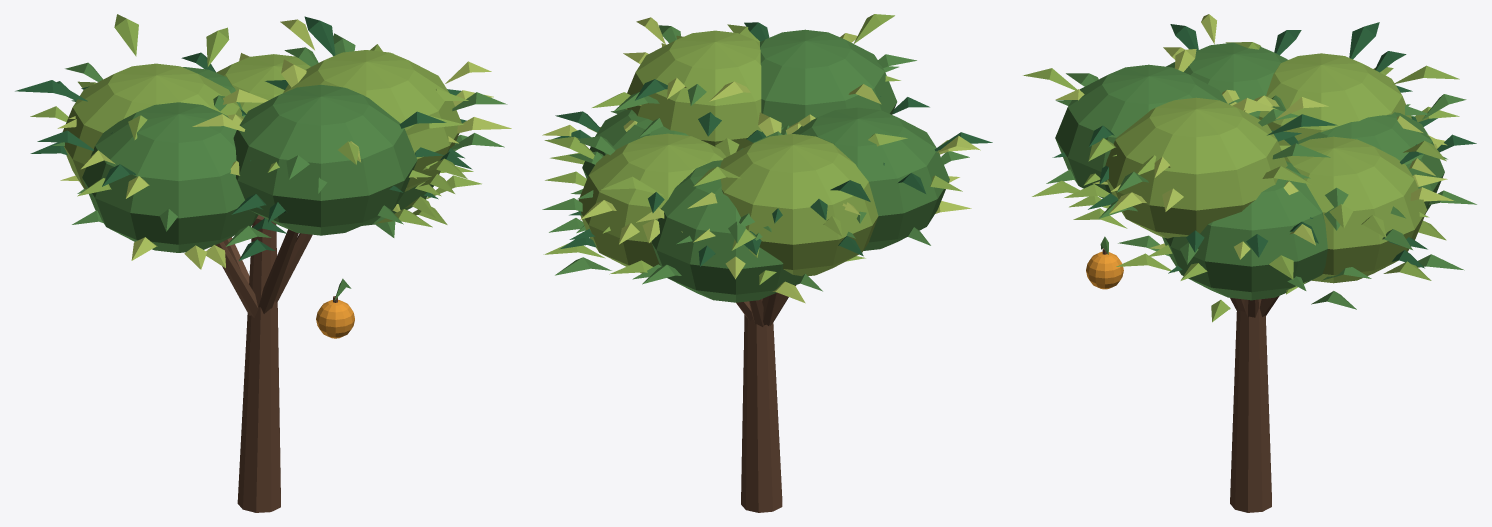
File: picking-tree.glb
3 views of the same model, side by side, from view 1: azimuth 30°, elevation 25°; view 2: azimuth 150°, elevation 25°; view 3: azimuth 270°, elevation 25° (orthographic). The views are drawn at different scales.
Parts seen in each view (by area): view 1: Low_trunk_and_leaves, Removable_orange; view 2: Low_trunk_and_leaves; view 3: Low_trunk_and_leaves, Removable_orange.
Boxes of the visible parts, <box> form: Low_trunk_and_leaves: <box>15,14,511,512</box>; Removable_orange: <box>316,278,354,338</box>; Low_trunk_and_leaves: <box>542,14,992,512</box>; Low_trunk_and_leaves: <box>1023,14,1476,512</box>; Removable_orange: <box>1086,236,1123,289</box>.
Size of the model in its own units: 2.59 by 2.66 by 2.51.
